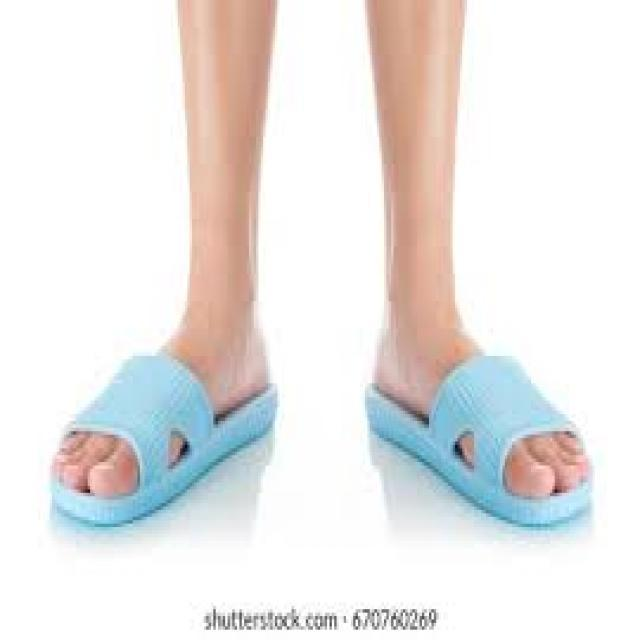No_Shoe: (362, 312, 598, 517), (40, 332, 286, 528)
